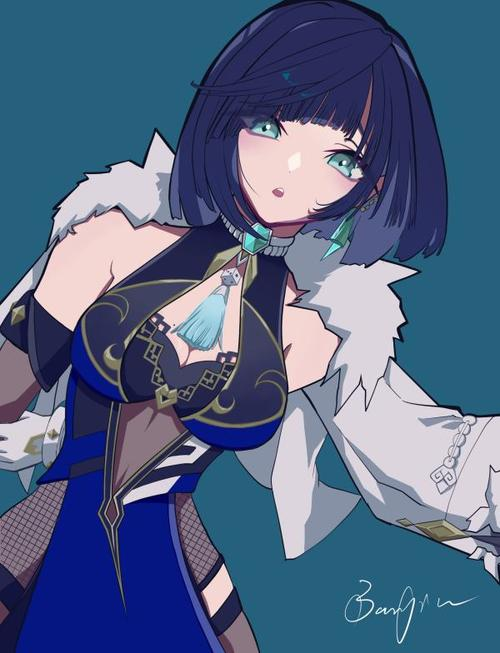夜兰: (3, 3, 500, 651)
